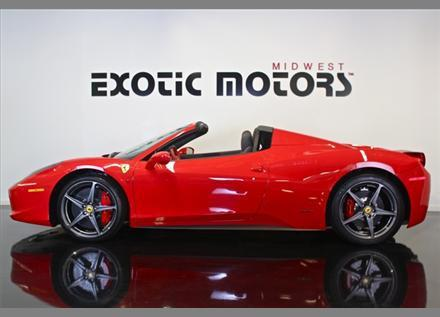Car: (5, 114, 440, 260)
